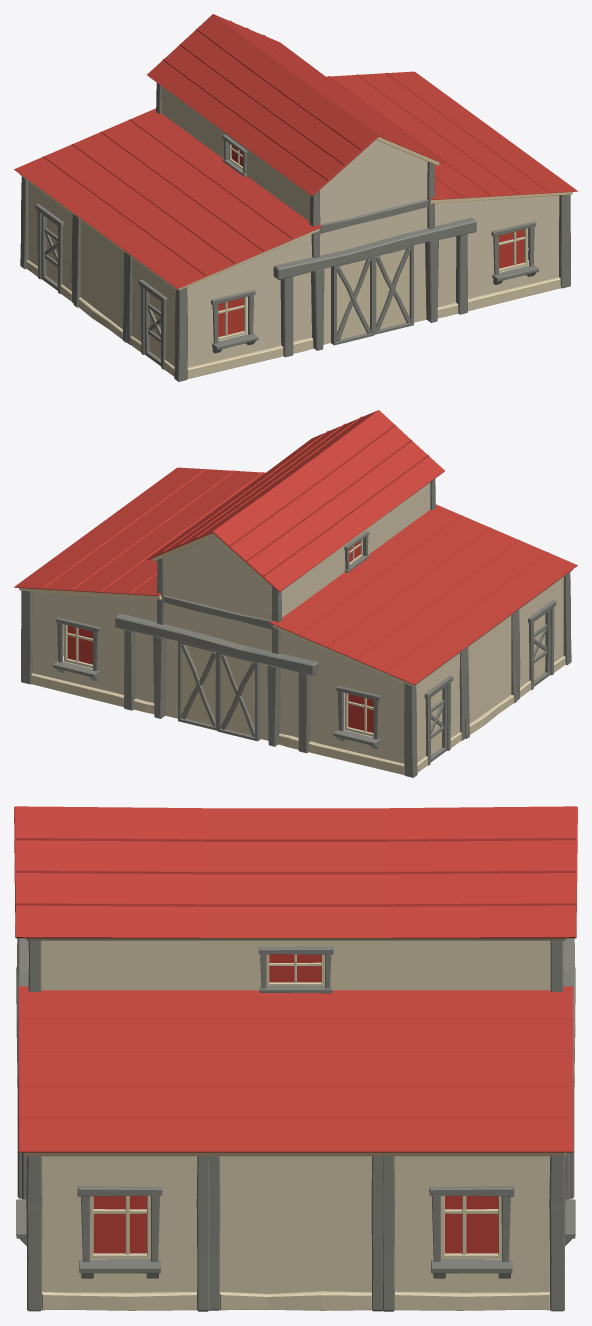
Rendered from farmbuilding_c.gltf.
3 renders of one model, top to bottom at view 1: azimuth 30°, elevation 25°; view 2: azimuth 150°, elevation 25°; view 3: azimuth 270°, elevation 25°, orthographic. The views are drawn at different scales.
Visible parts, largest first — view 1: farmbuilding_c001, Box182, Box184, Box229, Box268; view 2: farmbuilding_c001, Box182, Box184, Box229, Box268; view 3: farmbuilding_c001, Box182, Box184, Box229, Box268.
Part boxes in pixels (x1,y1,x2,y2): farmbuilding_c001: (14, 14, 577, 359); Box182: (28, 86, 559, 367); Box184: (20, 83, 570, 381); Box229: (26, 248, 560, 379); Box268: (218, 143, 527, 340); farmbuilding_c001: (14, 410, 577, 755); Box182: (32, 482, 563, 763); Box184: (21, 479, 571, 777); Box229: (31, 644, 565, 775); Box268: (64, 539, 373, 736); farmbuilding_c001: (14, 806, 577, 1253); Box182: (41, 940, 550, 1293); Box184: (16, 938, 575, 1311); Box229: (42, 1291, 549, 1310); Box268: (90, 954, 501, 1259).
Size of the model in its own units: 13.57 by 6.5 by 9.69.
Materials: 1 (1 with a texture image).
